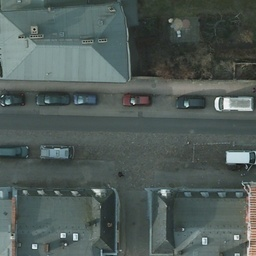car: (36, 91, 69, 107), (175, 95, 207, 110), (0, 144, 30, 160), (122, 93, 151, 107), (0, 91, 25, 106), (73, 92, 98, 105)
van: (214, 95, 255, 112), (40, 144, 72, 160)
